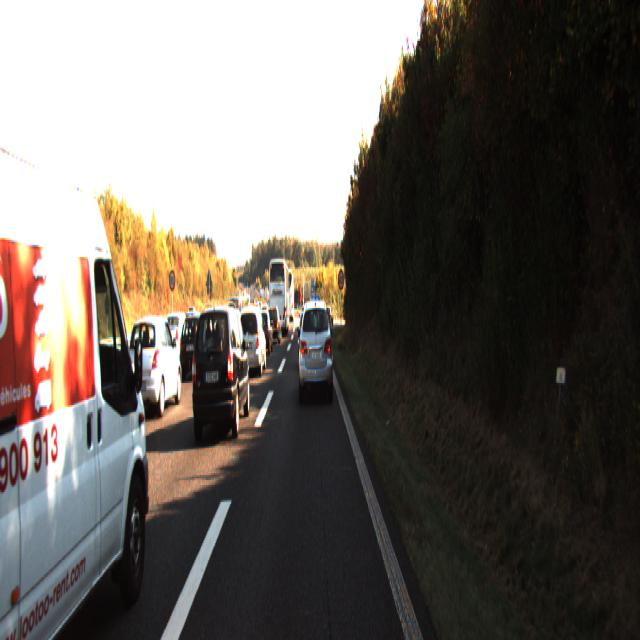Car: (0, 31, 159, 638), (0, 318, 126, 494), (189, 300, 251, 442), (123, 312, 183, 418), (298, 296, 333, 402), (180, 311, 218, 377), (236, 302, 266, 377), (160, 314, 194, 369), (268, 255, 290, 334), (254, 308, 273, 354), (266, 306, 282, 344)
